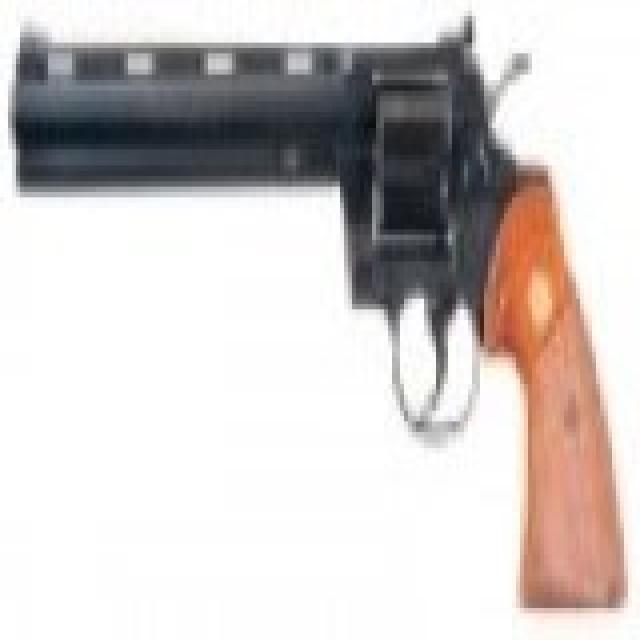Gun: (9, 8, 630, 599)
